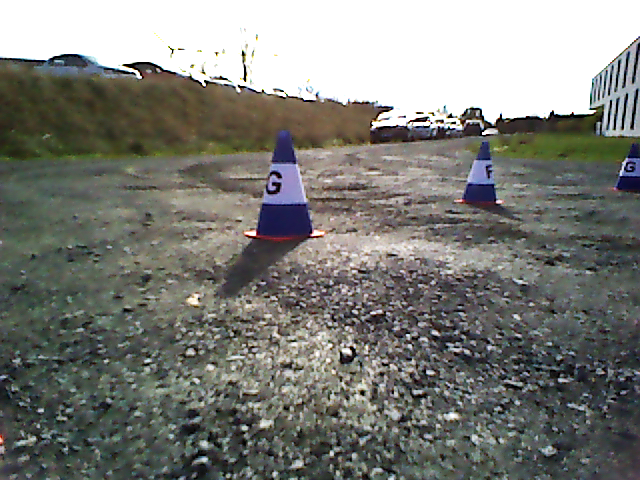bluecone: (257, 131, 311, 234), (461, 142, 498, 200), (616, 145, 640, 190)
